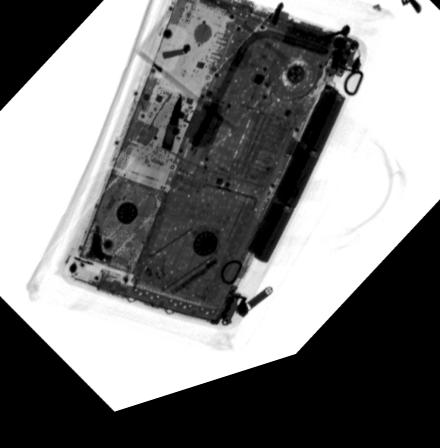Bullet: (158, 103, 181, 164)
